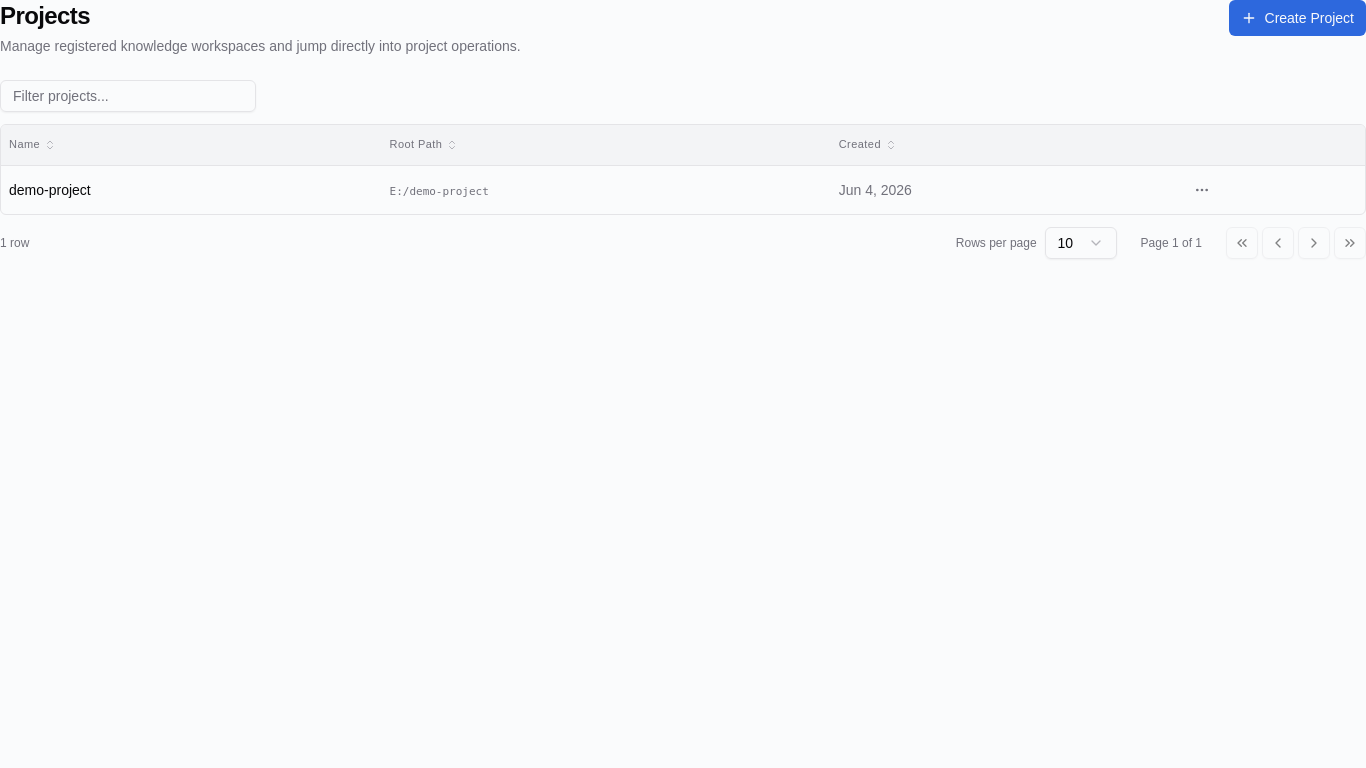
Test: ProjectsPage › opens a create dialog with name only
Click the button "Create Project". click: (1297,18)
box: 1228,0 -> 1365,36
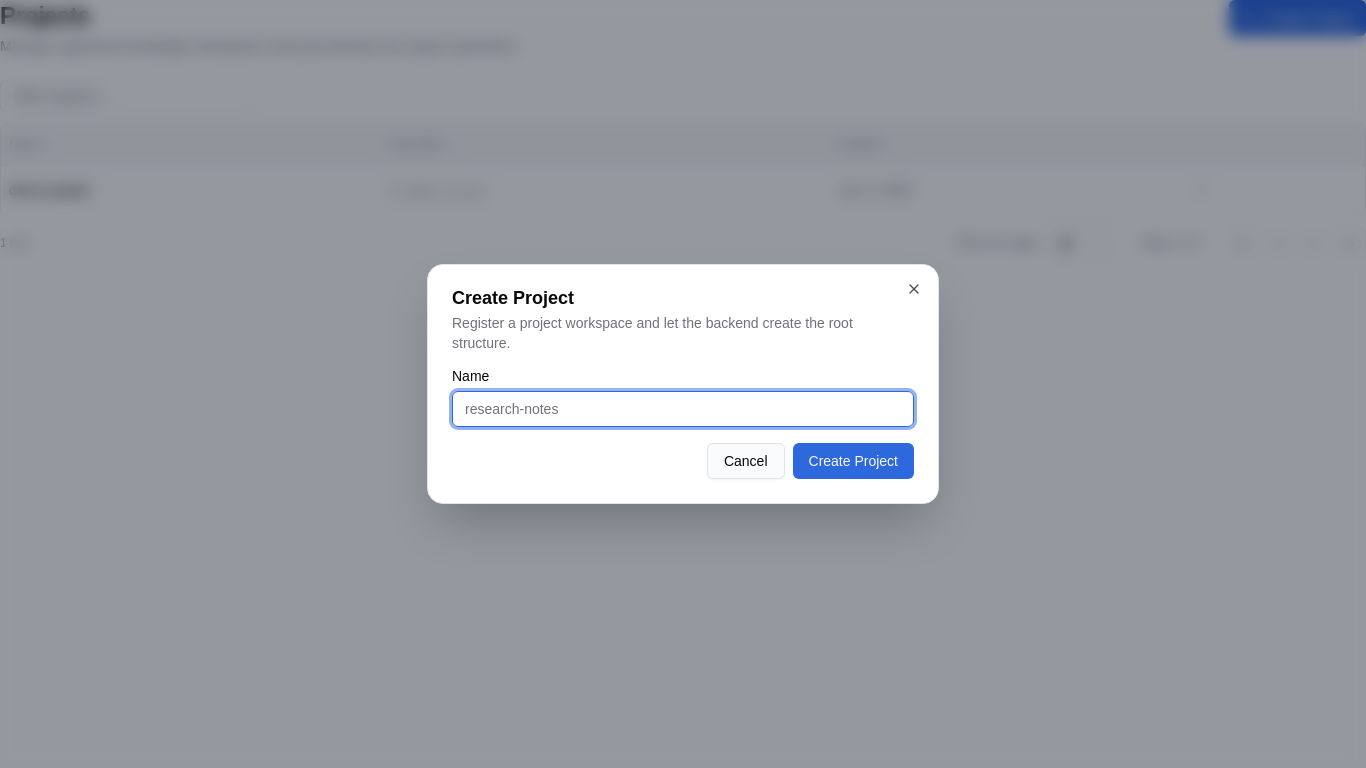
Now the dialog is shown, box 427,264 -> 939,504
Now the field labelled "Name" is shown, box 452,391 -> 914,427
